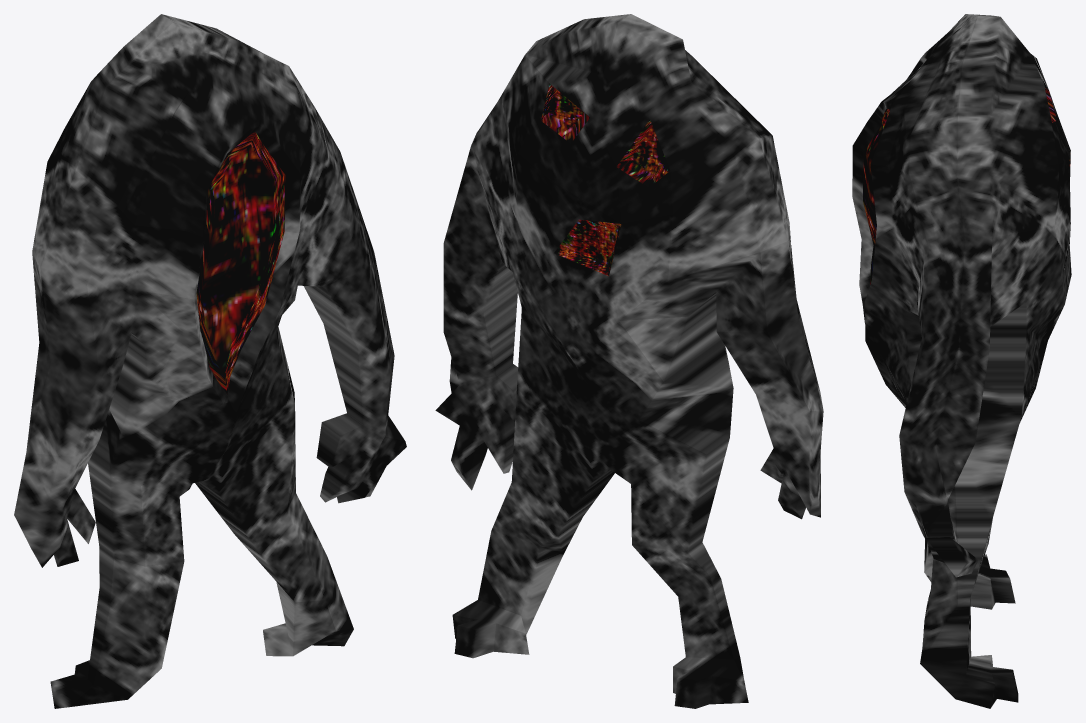
Rendered from homunculardwb.glb.
The picture shows the model from 3 angles, left to right: view 1: azimuth 30°, elevation 25°; view 2: azimuth 150°, elevation 25°; view 3: azimuth 270°, elevation 25°; orthographic projection. The views are drawn at different scales.
Parts seen in each view (by area): view 1: homuncularp; view 2: homuncularp; view 3: homuncularp.
Part boxes in pixels (<box>): homuncularp: <box>14,14,406,708</box>; homuncularp: <box>435,14,823,708</box>; homuncularp: <box>852,14,1071,708</box>.
Size of the model in its own units: 2.34 by 3.88 by 1.25.
2 materials, 2 textured.
